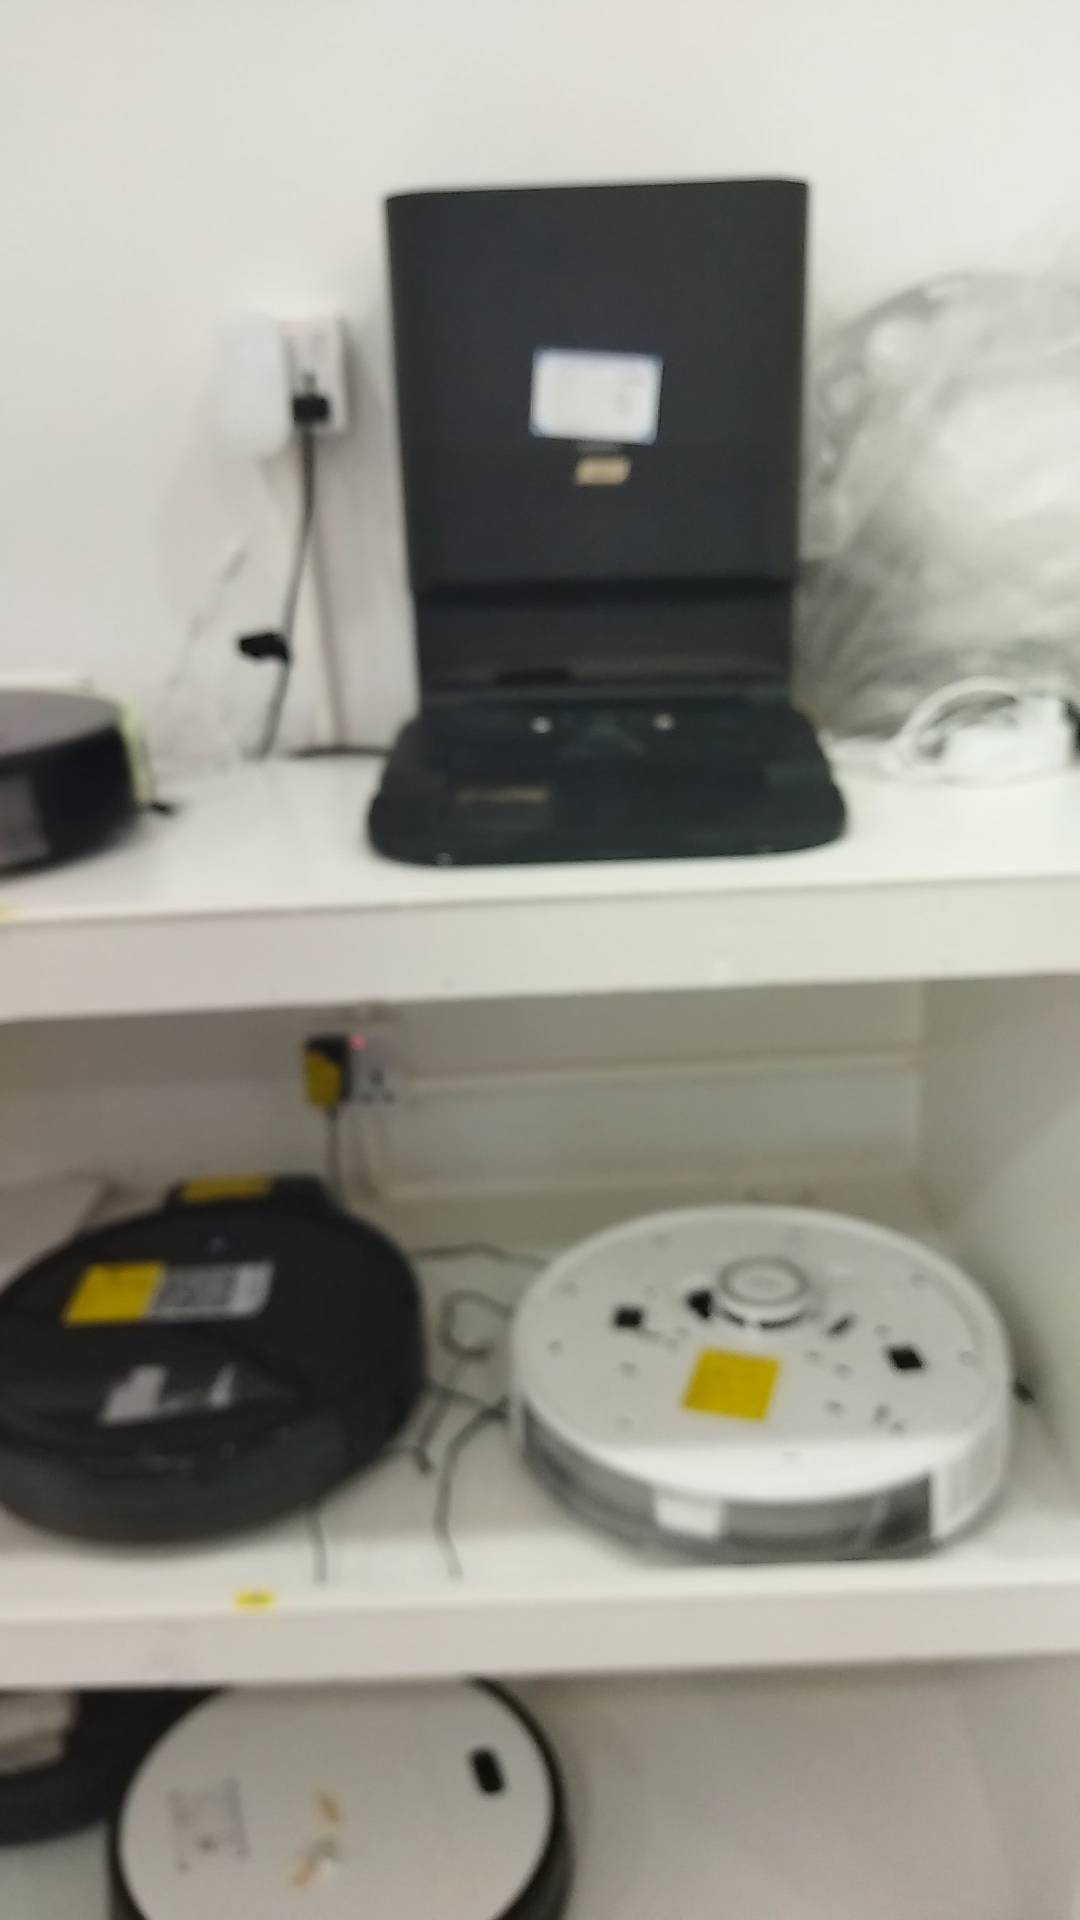dust collecting barrel: (373, 177, 848, 872)
